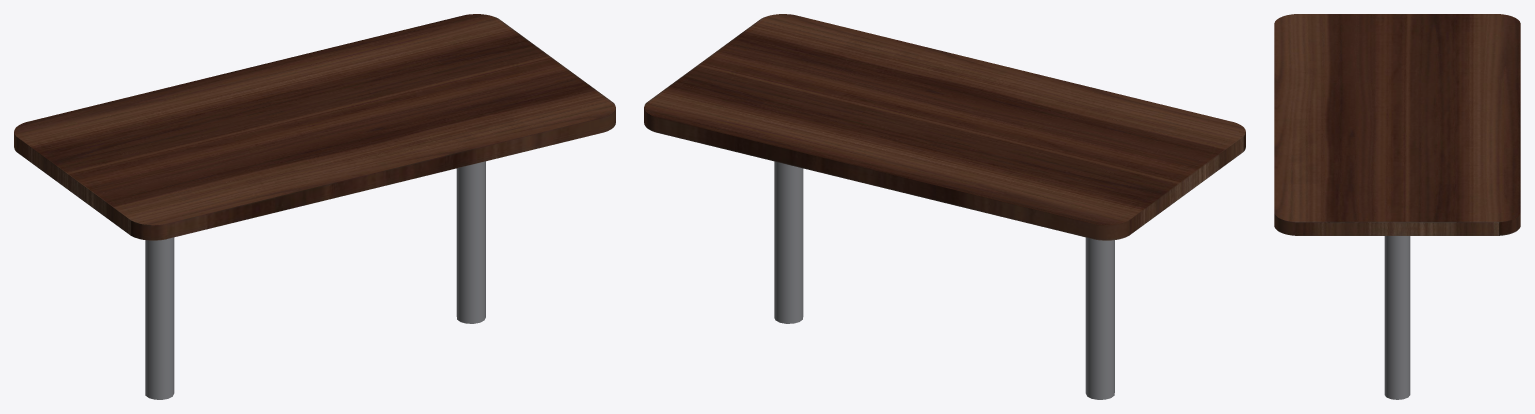
The model's file is SM_Table_04.glb.
3 renders of one model, left to right at view 1: azimuth 30°, elevation 25°; view 2: azimuth 150°, elevation 25°; view 3: azimuth 270°, elevation 25°, orthographic. The views are drawn at different scales.
Visible parts, largest first — view 1: SM_Table_04; view 2: SM_Table_04; view 3: SM_Table_04.
Part boxes in pixels (x1,y1,x2,y2): SM_Table_04: (14,14,615,399); SM_Table_04: (644,14,1245,399); SM_Table_04: (1274,14,1520,399).
Bounding box in the file's own units: 1.8 × 0.8424 × 0.8997.
Materials: 1 (1 with a texture image).
